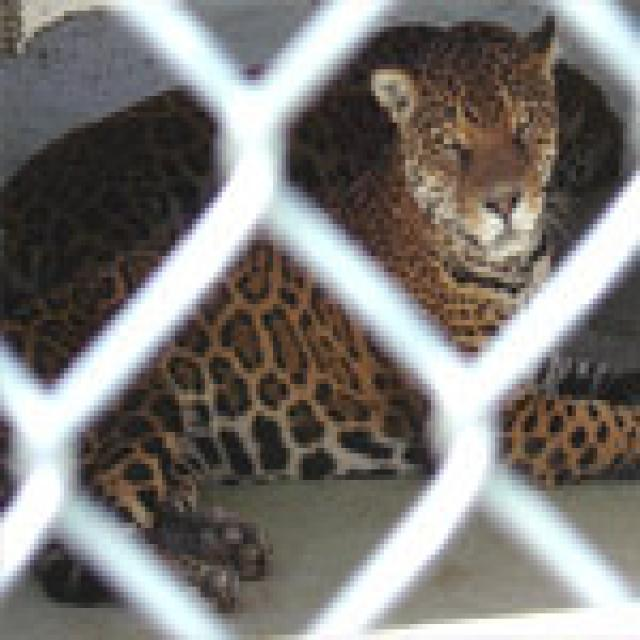Leopard: (0, 0, 631, 597)
